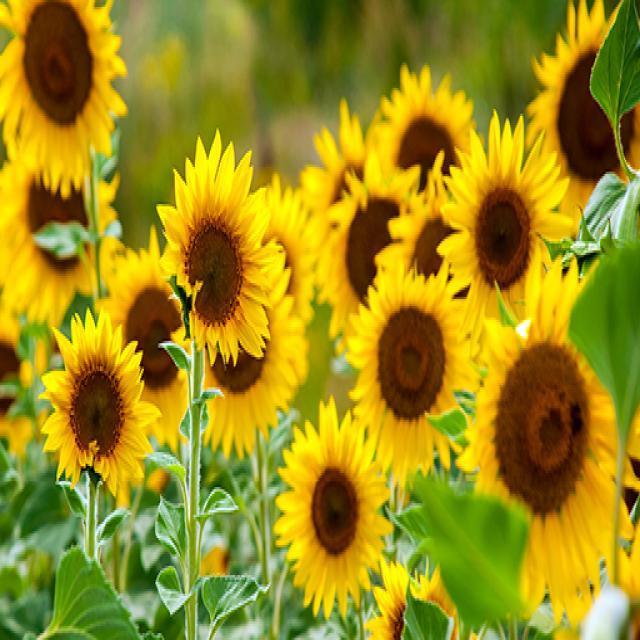sunflower: (457, 243, 632, 626), (435, 107, 574, 346), (154, 126, 288, 367), (345, 257, 476, 487), (272, 394, 392, 619), (525, 0, 639, 225), (0, 0, 128, 197), (38, 306, 160, 496), (202, 255, 310, 458), (0, 146, 121, 327), (95, 225, 190, 450), (318, 144, 420, 353), (374, 148, 476, 308), (375, 60, 475, 202), (258, 172, 322, 330), (298, 94, 381, 214), (364, 554, 458, 638), (0, 294, 48, 457), (614, 396, 640, 520), (199, 546, 231, 576)
